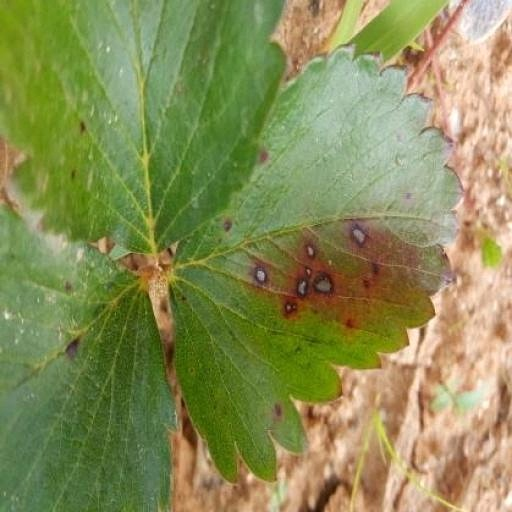Leaf Spot: (164, 28, 465, 471), (0, 256, 287, 511)
